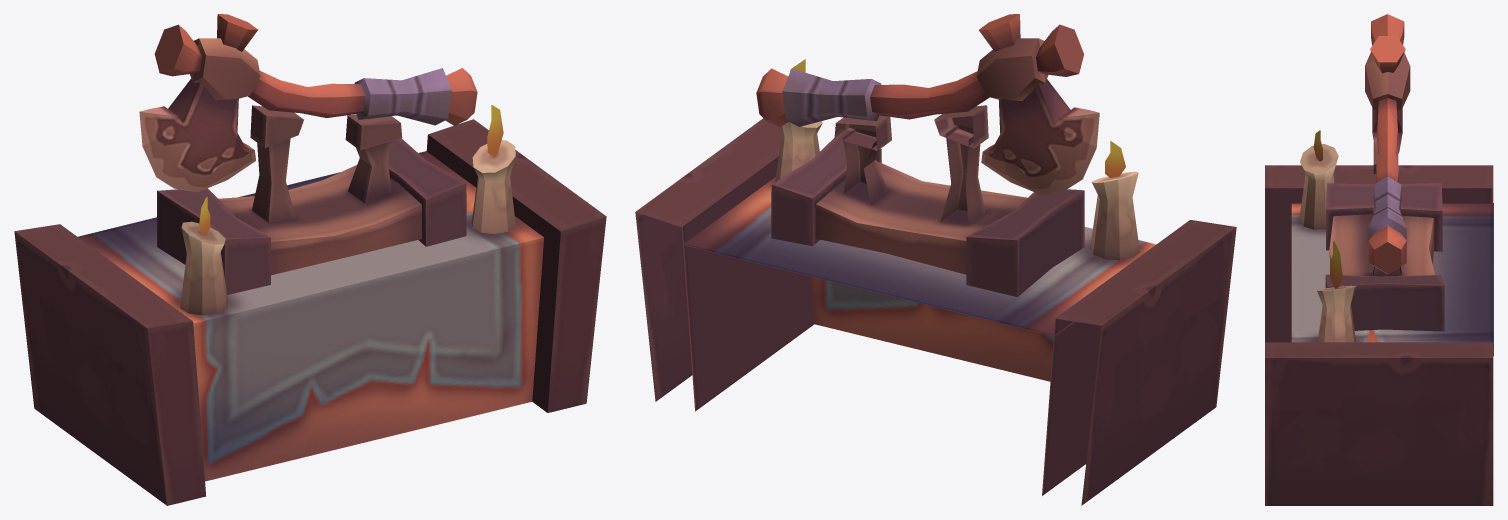
File: 도끼진열.fbx
3 renders of one model, left to right at view 1: azimuth 30°, elevation 25°; view 2: azimuth 150°, elevation 25°; view 3: azimuth 270°, elevation 25°, orthographic. The views are drawn at different scales.
Visible parts, largest first — view 1: 도끼진열; view 2: 도끼진열; view 3: 도끼진열.
Part boxes in pixels (left/top/right/bottom): 도끼진열: left=14, top=14, right=606, bottom=505; 도끼진열: left=635, top=14, right=1236, bottom=505; 도끼진열: left=1265, top=14, right=1493, bottom=505.
Size of the model in its own units: 3.39 by 2.88 by 1.7.
1 material, 1 textured.
